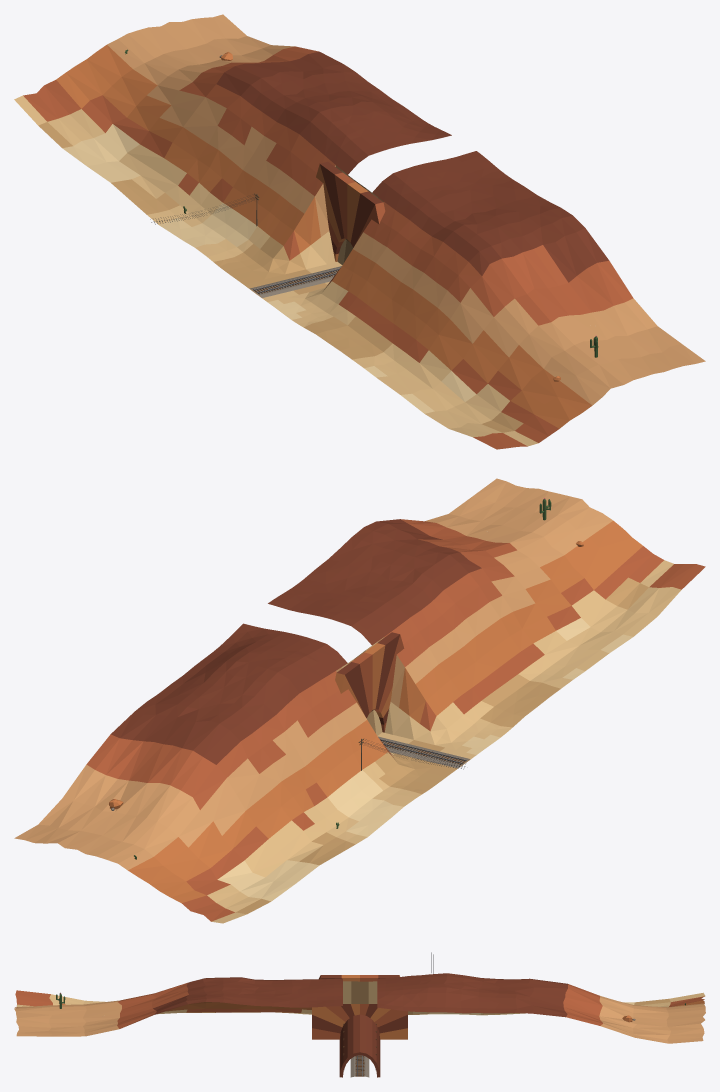
Rendered from SM_FG_Chunk_Tunnel_Entry_A.fbx.
3 views of the same model, one above another, from view 1: azimuth 30°, elevation 25°; view 2: azimuth 150°, elevation 25°; view 3: azimuth 270°, elevation 25° (orthographic). The views are drawn at different scales.
Parts seen in each view (by area): view 1: FG_Chunk_Tunnel_Entry_A_Track; view 2: FG_Chunk_Tunnel_Entry_A_Track; view 3: FG_Chunk_Tunnel_Entry_A_Track.
Boxes of the visible parts, x1=… form: FG_Chunk_Tunnel_Entry_A_Track: x1=14, y1=14, x2=705, y2=449; FG_Chunk_Tunnel_Entry_A_Track: x1=14, y1=478, x2=705, y2=923; FG_Chunk_Tunnel_Entry_A_Track: x1=14, y1=952, x2=705, y2=1077.
Bounding box in the file's own units: 6250 × 2496 × 20150.
